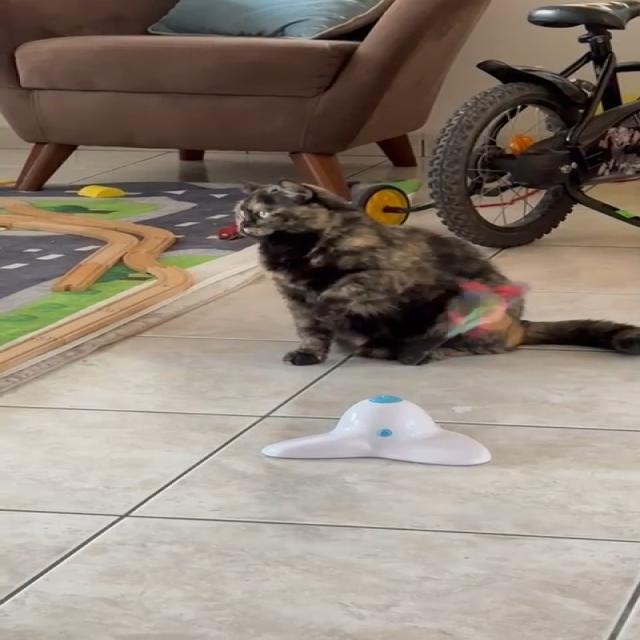authorized: (232, 177, 639, 367)
